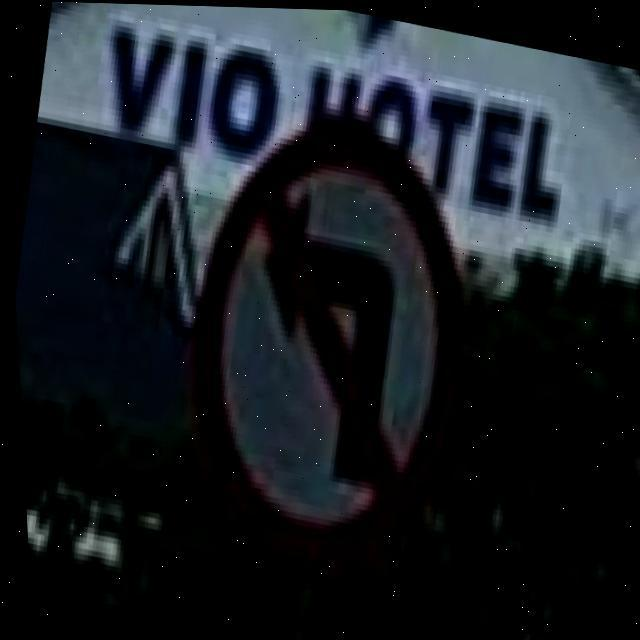Dilarang Belok Kiri: (148, 106, 492, 578)
